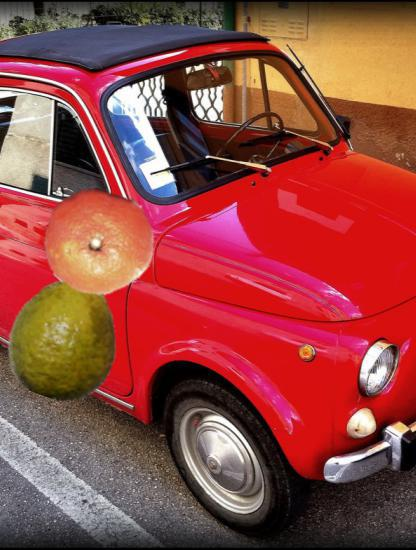Clementine: (42, 182, 157, 297)
Guava: (4, 276, 128, 400)
